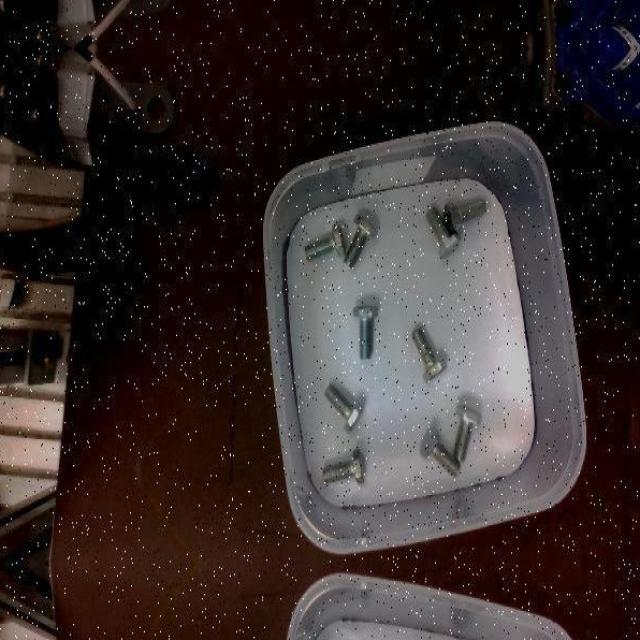screw: (420, 426, 461, 478), (411, 328, 447, 383), (425, 205, 462, 258), (342, 212, 377, 268), (324, 383, 364, 432), (453, 405, 482, 462), (304, 222, 345, 261), (442, 196, 486, 232), (322, 449, 365, 485), (352, 305, 378, 358)
